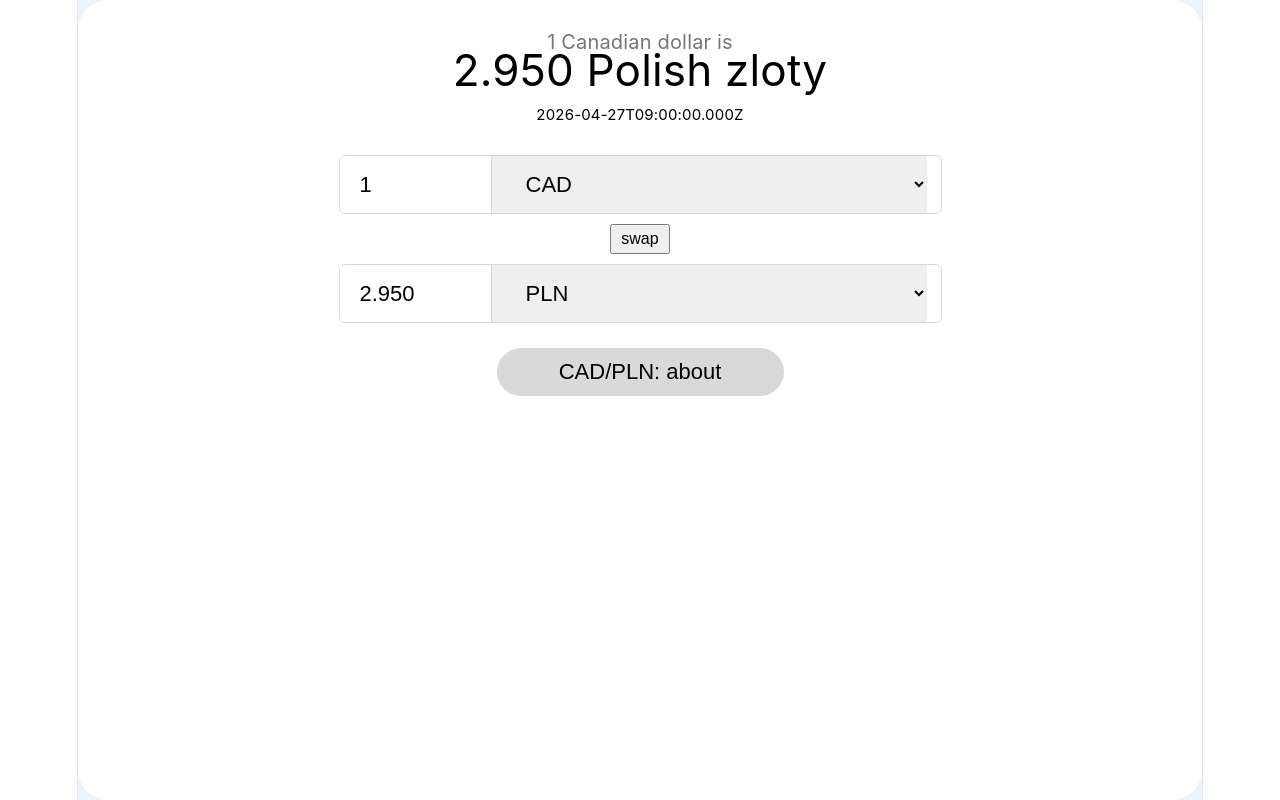
Test: App › hides the MoreAbout when changing the currency
The image size is (1280, 800).
Select "CAD" in the 1st dropdown at (708, 185), box [490,156,926,213]
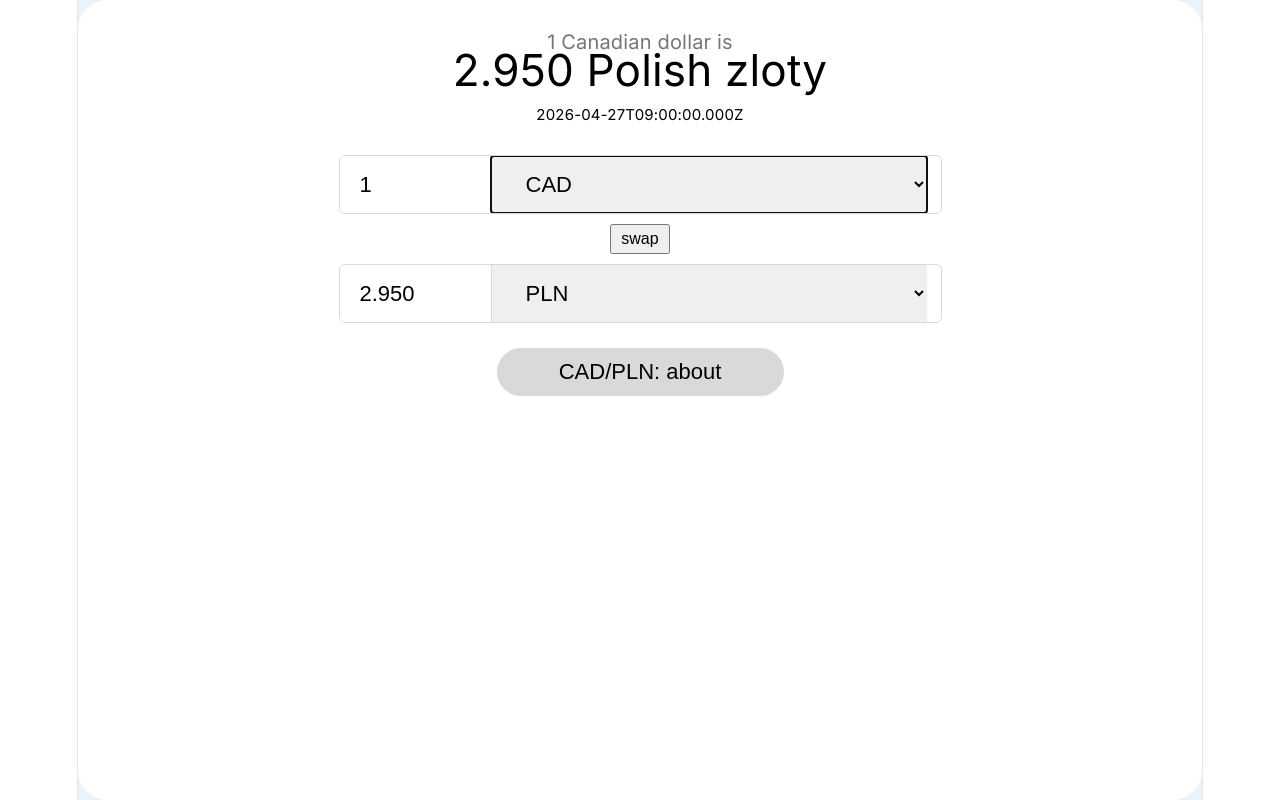
Select "PLN" in the 2nd dropdown at (708, 294), box [490,265,926,322]
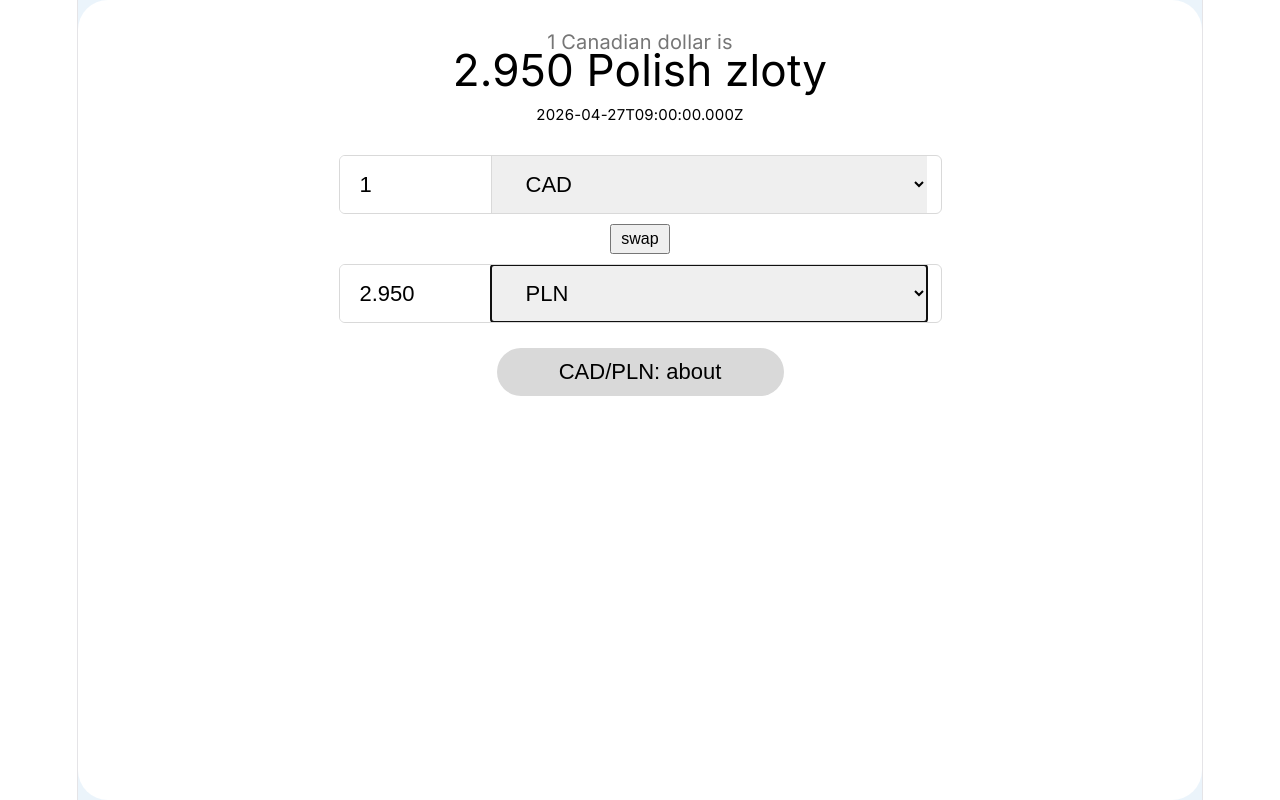
Click the button "CAD/PLN: about" at (640, 372), box [496,348,784,396]
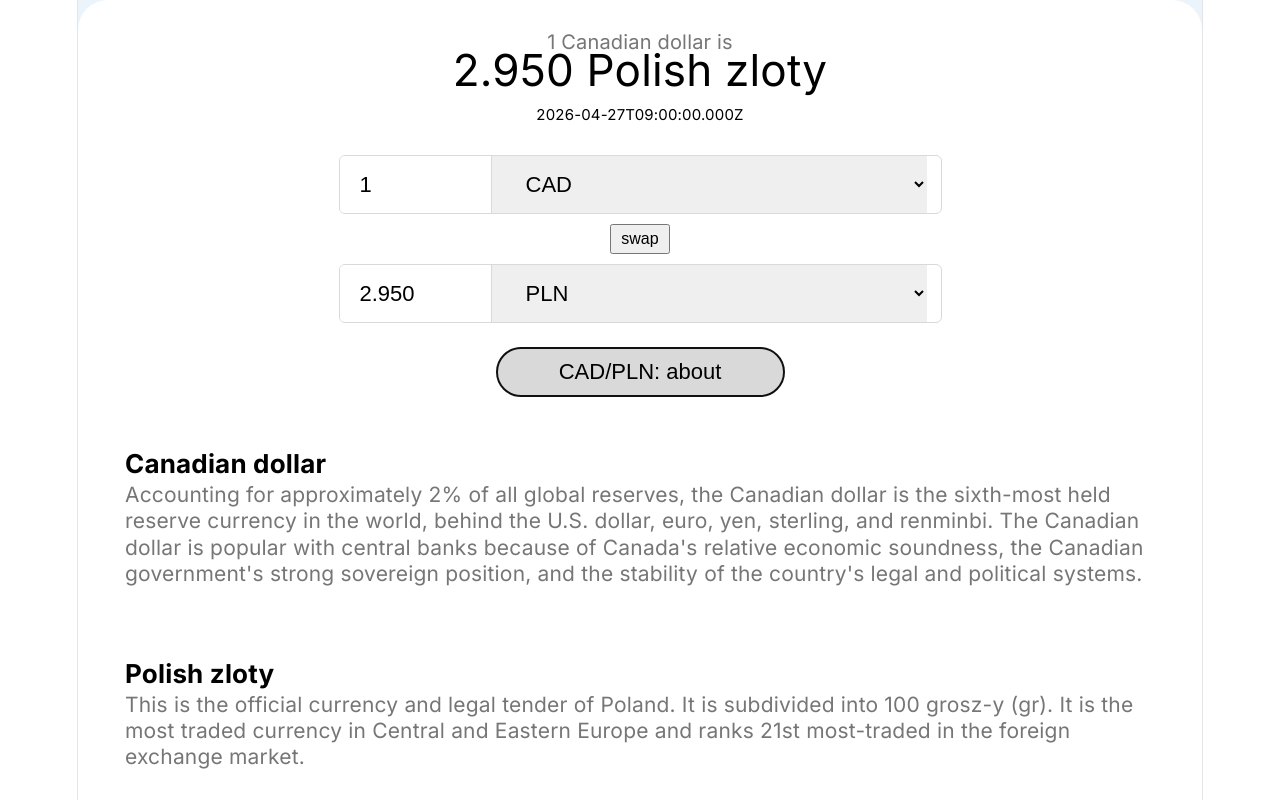
Now the text "Accounting for approximately 2% of all global reserves, the Canadian dollar is the sixth-most held reserve currency in t" is shown, box [125,482,1144,586]
Now the text "This is the official currency and legal tender of Poland. It is subdivided into 100 grosz-y (gr). It is the most traded " is shown, box [125,692,1133,769]
Select "PLN" in the 1st dropdown at (708, 185), box [490,156,926,213]
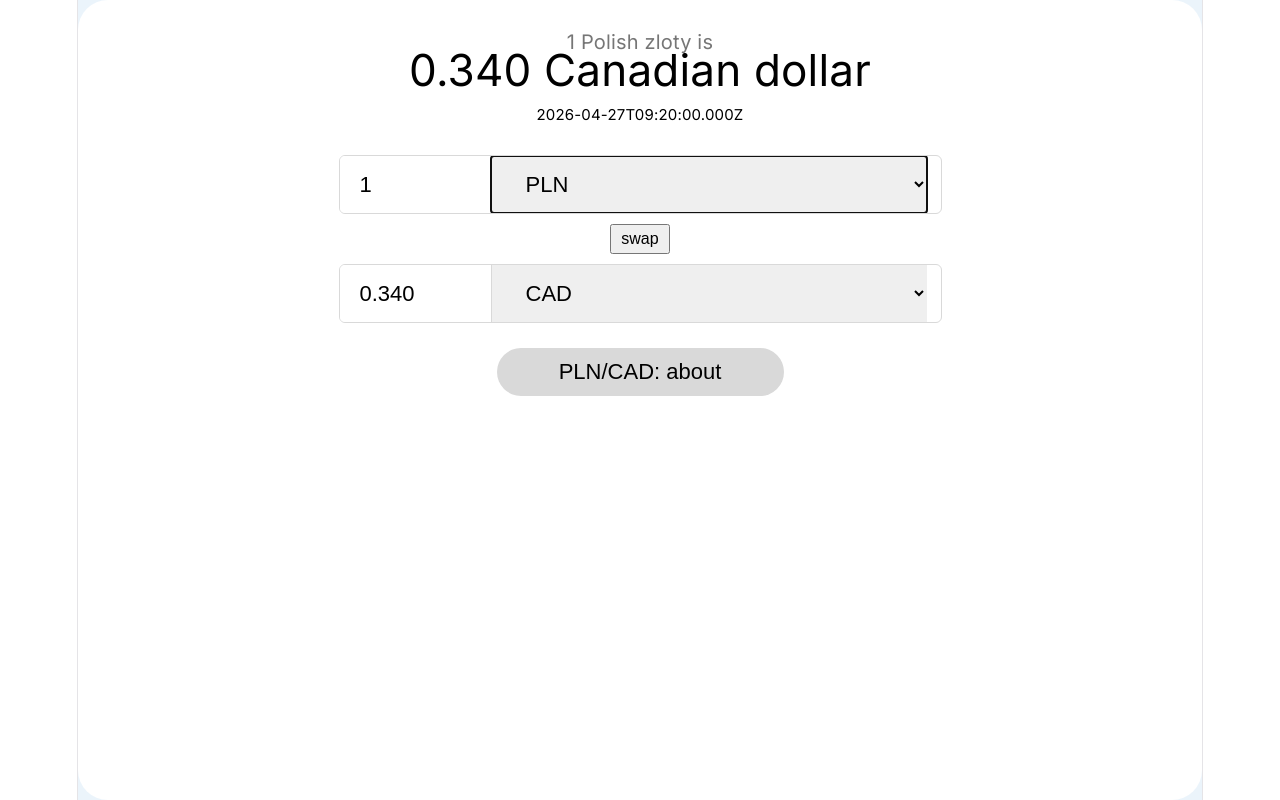
Now the text "Accounting for approximately 2% of all global reserves, the Canadian dollar is the sixth-most held reserve currency in t" is gone
Now the text "This is the official currency and legal tender of Poland. It is subdivided into 100 grosz-y (gr). It is the most traded " is gone
